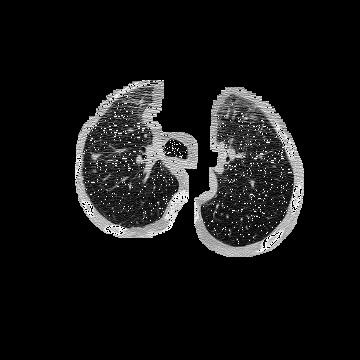PN: (91, 153, 99, 161)
